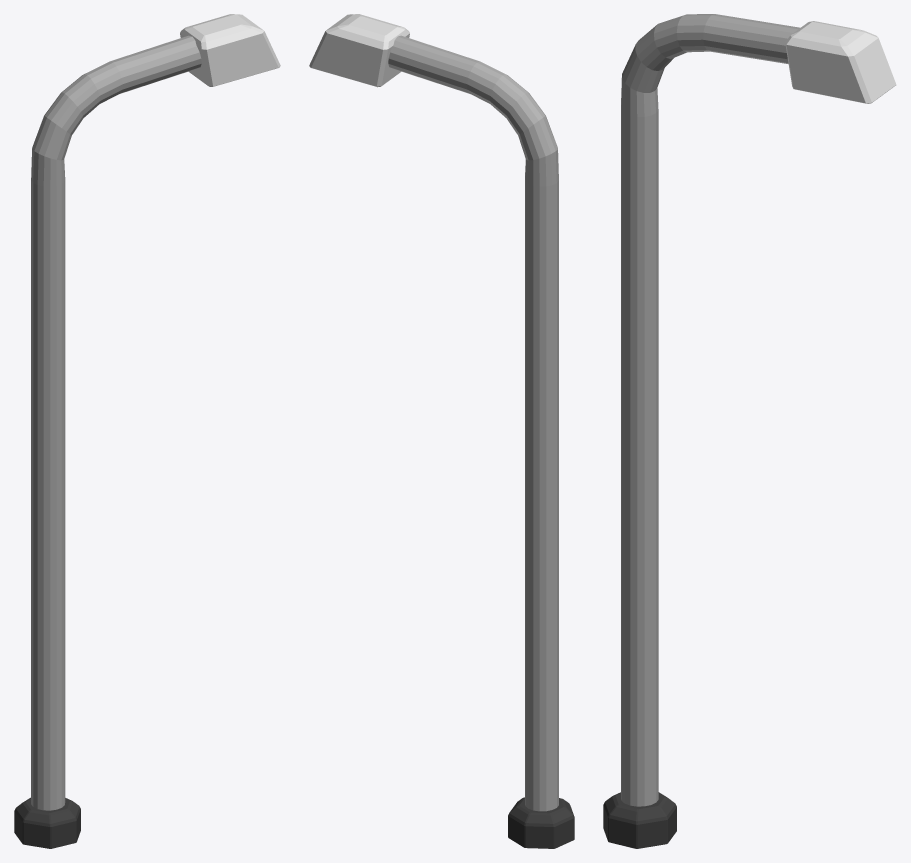
Rendered from streetlight-1.fbx.
3 views of the same model, side by side, from view 1: azimuth 30°, elevation 25°; view 2: azimuth 150°, elevation 25°; view 3: azimuth 330°, elevation 25° (orthographic). The views are drawn at different scales.
Parts seen in each view (by area): view 1: Streetlight; view 2: Streetlight; view 3: Streetlight.
Part boxes in pixels (x1,y1,x2,y2): Streetlight: [14, 14, 280, 848]; Streetlight: [309, 14, 574, 848]; Streetlight: [603, 14, 896, 848].
Bounding box in the file's own units: 168 × 493 × 37.79.
